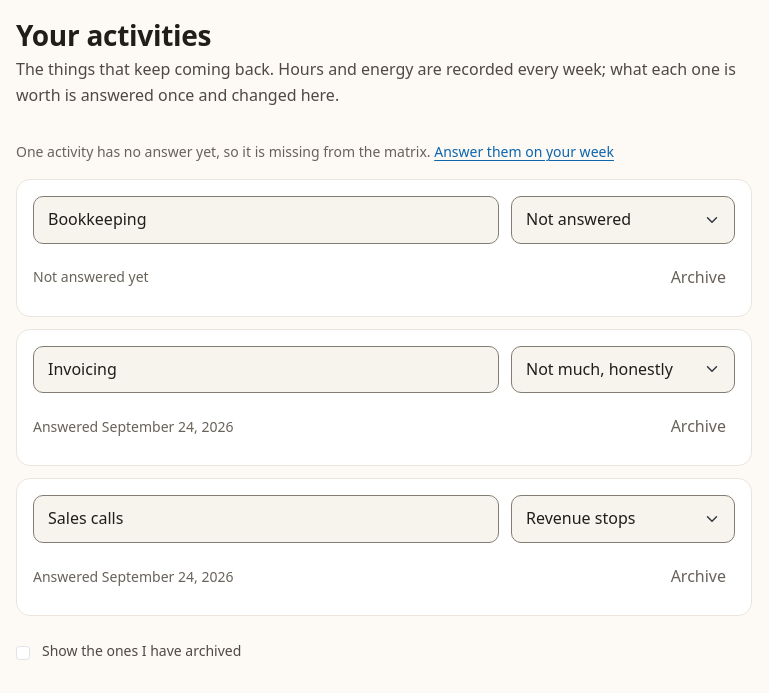
Scenario: the activities list › puts the old name back when a rename is refused
The image size is (769, 693).
Expected: the heading "Your activities" is shown, [16,16,211,54]
Replace the text in the 2nd field with "Sales calls" at (266, 369), box [33,346,499,393]
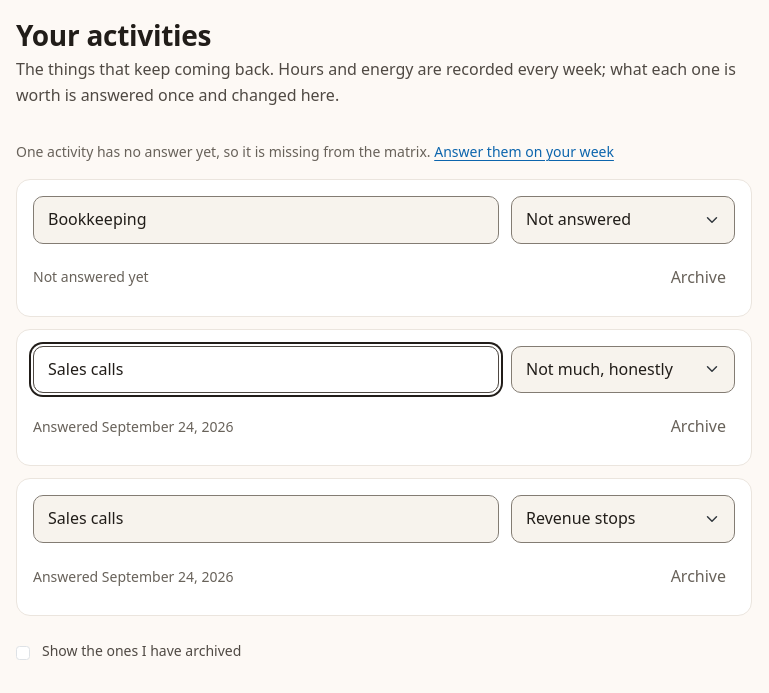
Press Tab
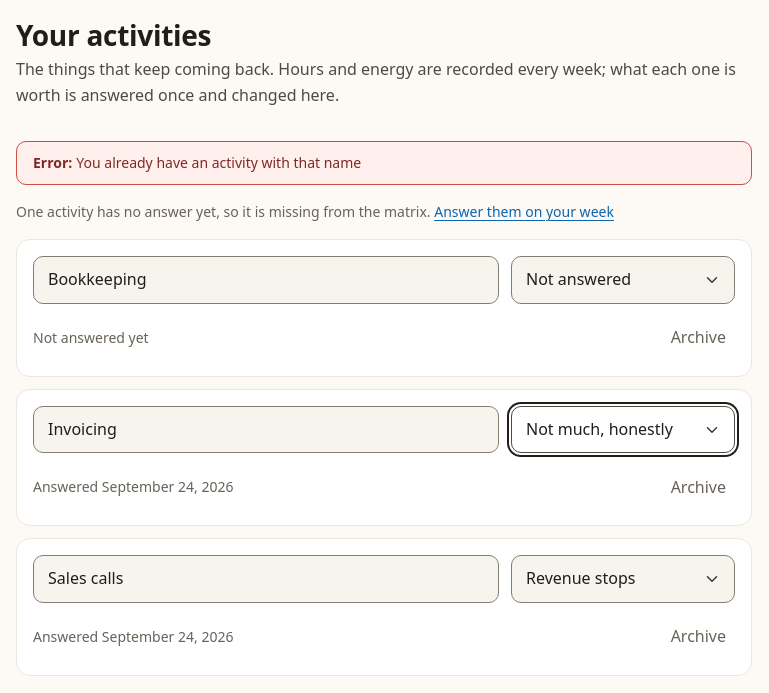
Expected: the message shows "already have an activity", [76,153,361,172]
Expected: the 2nd field holds "Invoicing", [33,406,499,453]
